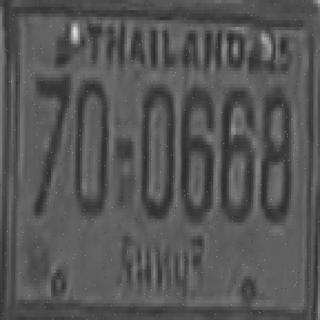N00: (140, 81, 173, 216), (74, 77, 106, 212)
N06: (218, 84, 253, 219), (179, 84, 212, 219)
N07: (31, 74, 69, 212)
N08: (259, 88, 290, 219)
P10: (110, 228, 212, 310)
